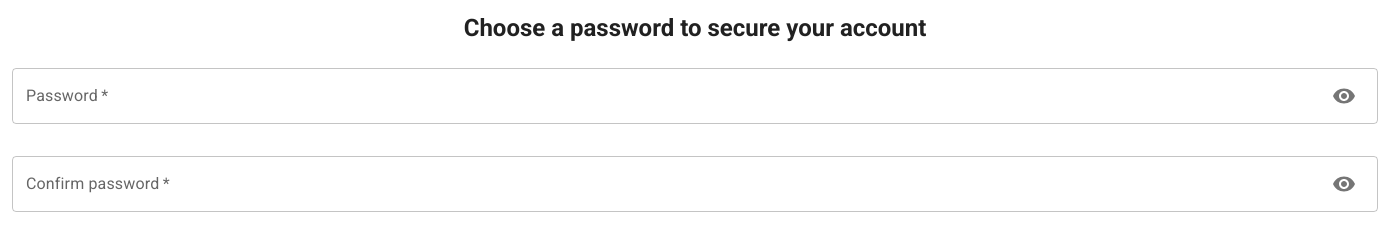
AccountSecurityStep › should show an error if password_confirmation is missing uppercase letter
Type "john123!" into the password field labelled "Confirm password *". click: (664, 184)
box: [12,156,1316,212]
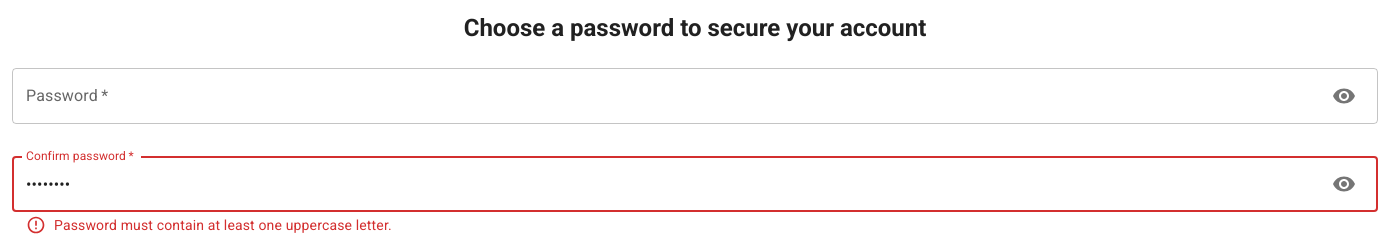
Expected: the message shows "uppercase", [54,217,392,233]
